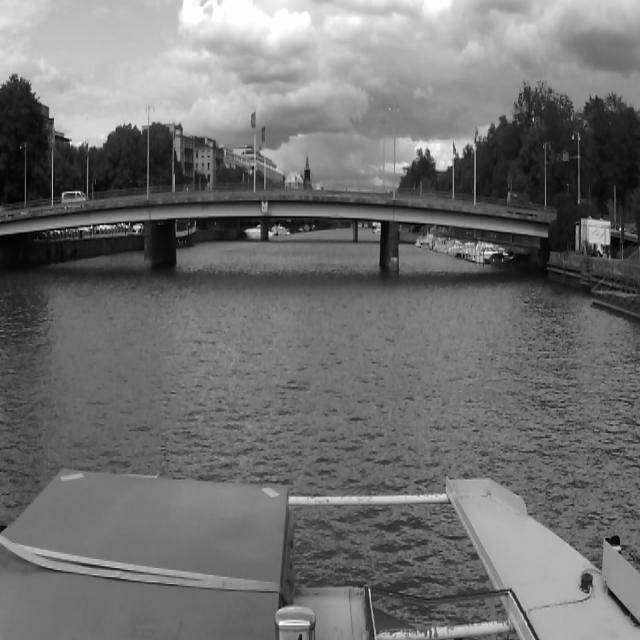ship: (173, 220, 200, 247), (242, 221, 274, 243)
